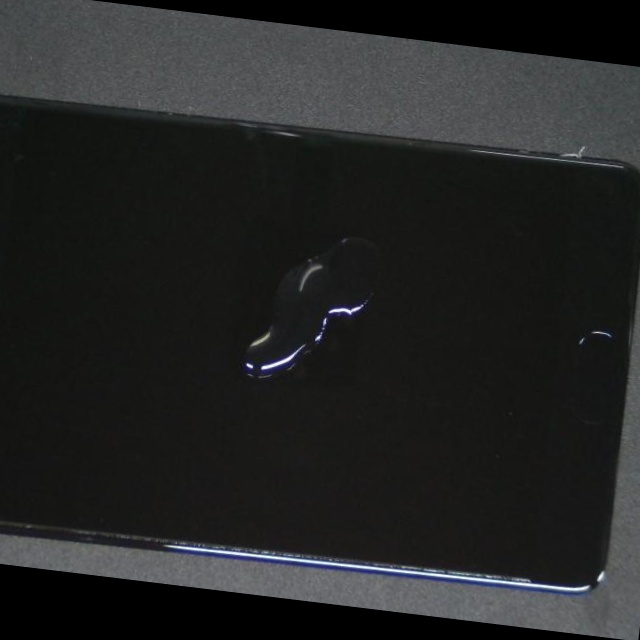oil: (80, 201, 547, 531)
